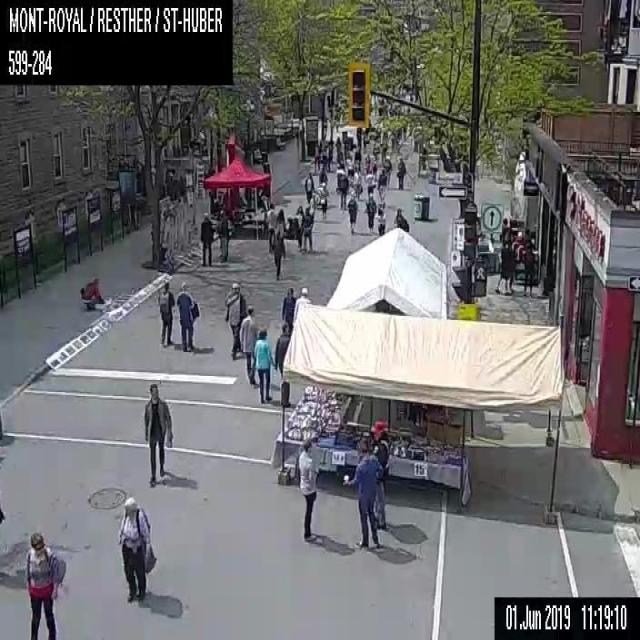pedestrian: (24, 532, 66, 639), (342, 438, 382, 546), (117, 496, 156, 601), (144, 382, 172, 487), (298, 437, 318, 541), (368, 426, 387, 528), (175, 280, 199, 350), (223, 282, 245, 358), (253, 328, 274, 403), (239, 305, 257, 385), (274, 322, 291, 406), (157, 278, 175, 345), (495, 240, 511, 294), (78, 276, 104, 309), (272, 224, 285, 281), (522, 242, 535, 296), (294, 286, 310, 326), (362, 192, 376, 235), (201, 212, 212, 265), (282, 286, 294, 330), (266, 202, 276, 252), (218, 208, 227, 260), (302, 206, 312, 251), (347, 190, 357, 234), (334, 158, 346, 192), (338, 171, 348, 210), (376, 169, 386, 206), (294, 204, 302, 250), (319, 182, 328, 220), (303, 171, 314, 202), (396, 157, 406, 189), (365, 169, 375, 200), (374, 207, 385, 235), (353, 167, 362, 198), (383, 155, 392, 185), (276, 207, 286, 232), (312, 141, 319, 174), (320, 139, 327, 171), (393, 207, 403, 228), (327, 135, 333, 169), (342, 135, 349, 164), (353, 146, 361, 170), (347, 157, 353, 187), (318, 167, 327, 185), (355, 126, 362, 147), (334, 136, 340, 160), (371, 154, 378, 174), (501, 217, 508, 236), (364, 153, 370, 172), (401, 217, 408, 231)
